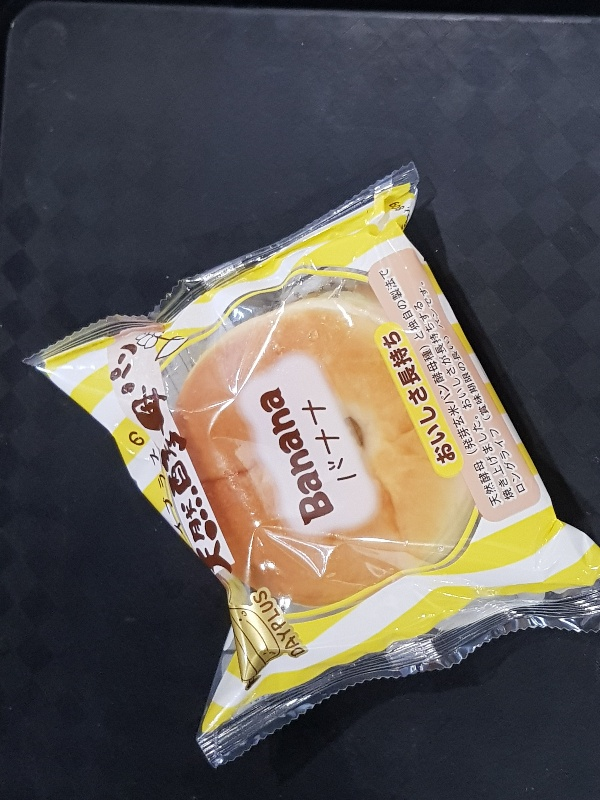Dayplus Banana: (22, 161, 600, 766)
